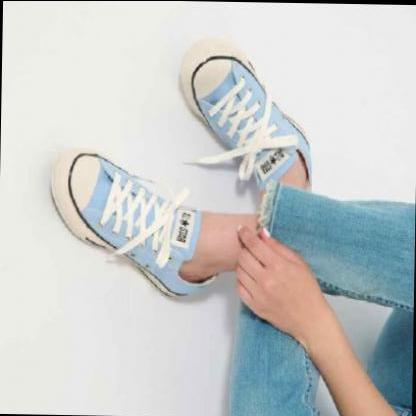no_safety-shoe: (45, 148, 203, 310), (166, 47, 319, 187)
